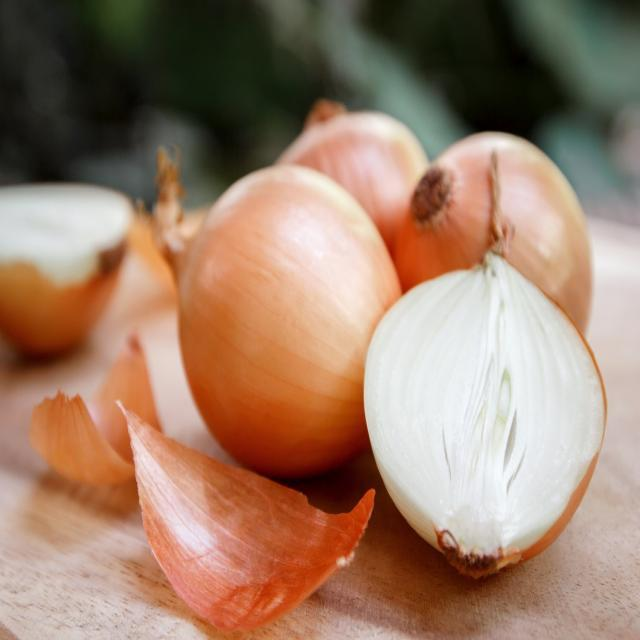onion: (151, 160, 402, 477), (368, 258, 607, 577), (400, 131, 596, 345), (1, 182, 137, 359)
